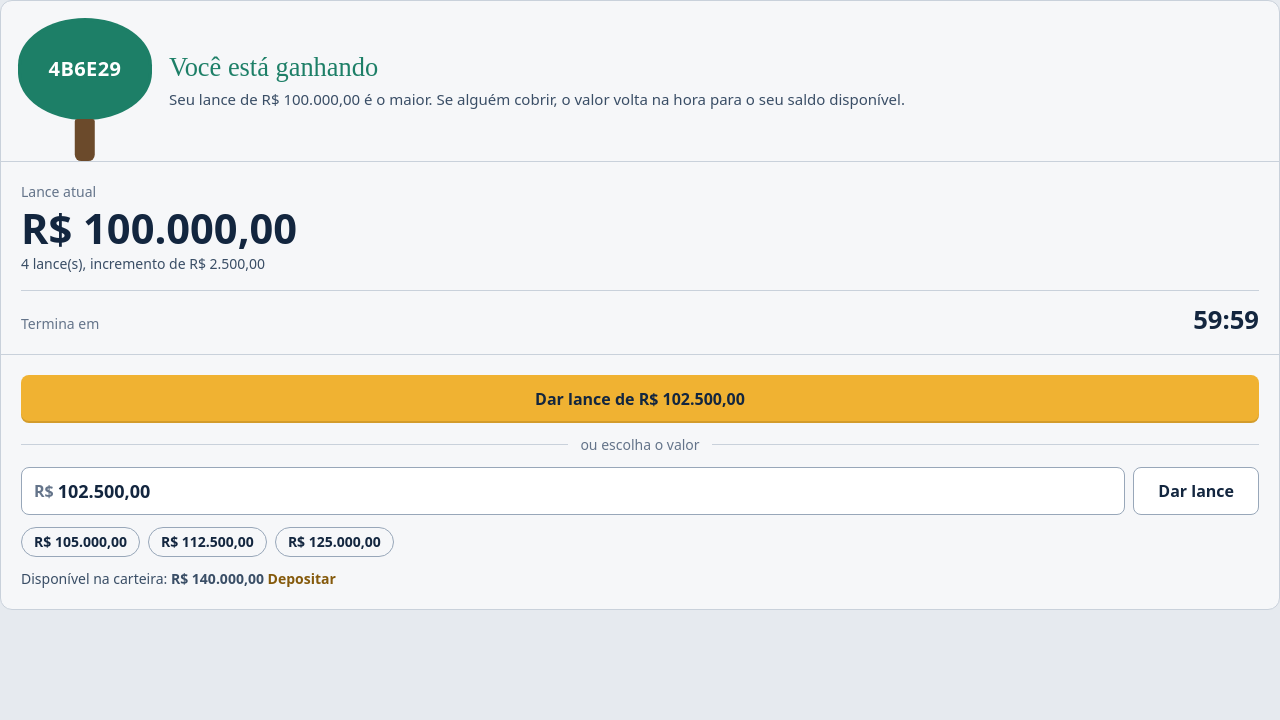
BidPanel › explica quando o líder tenta cobrir o próprio lance
Click the button "Dar lance de R$ 102.500,00": (640, 399) [21,375,1259,423]
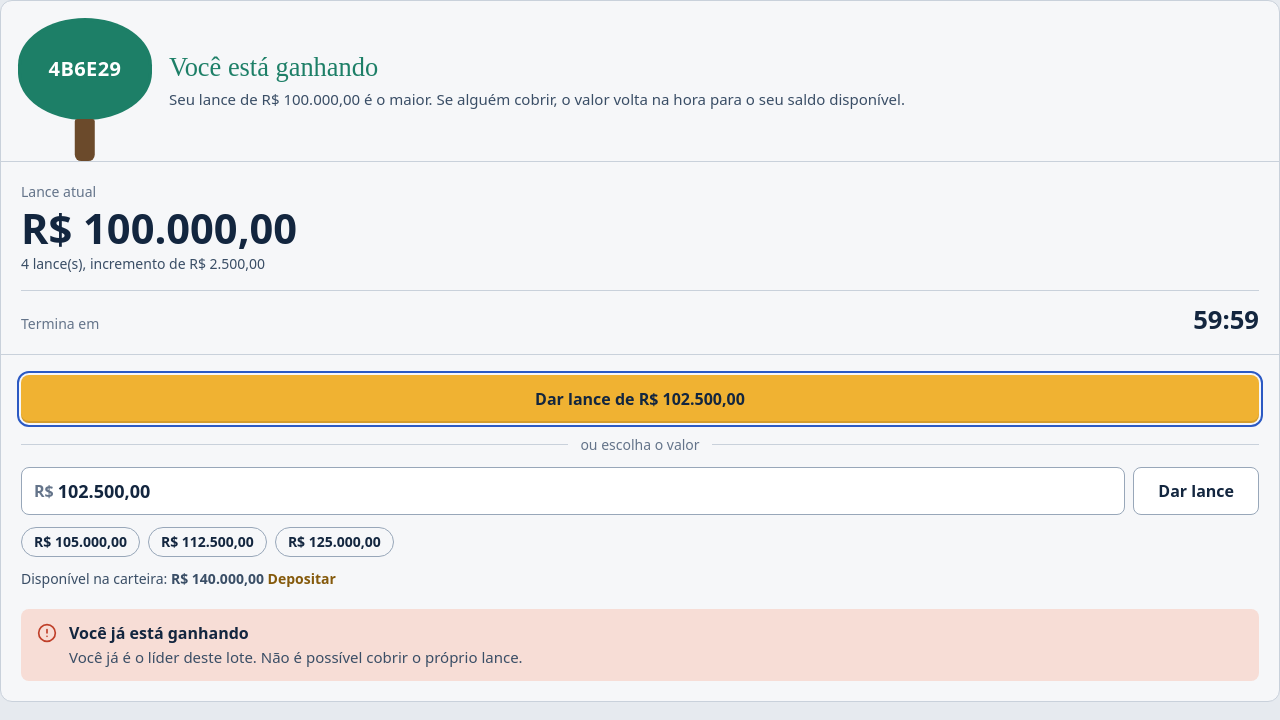
Now the message shows "Você já é o líder deste lote", box [69,647,523,667]
